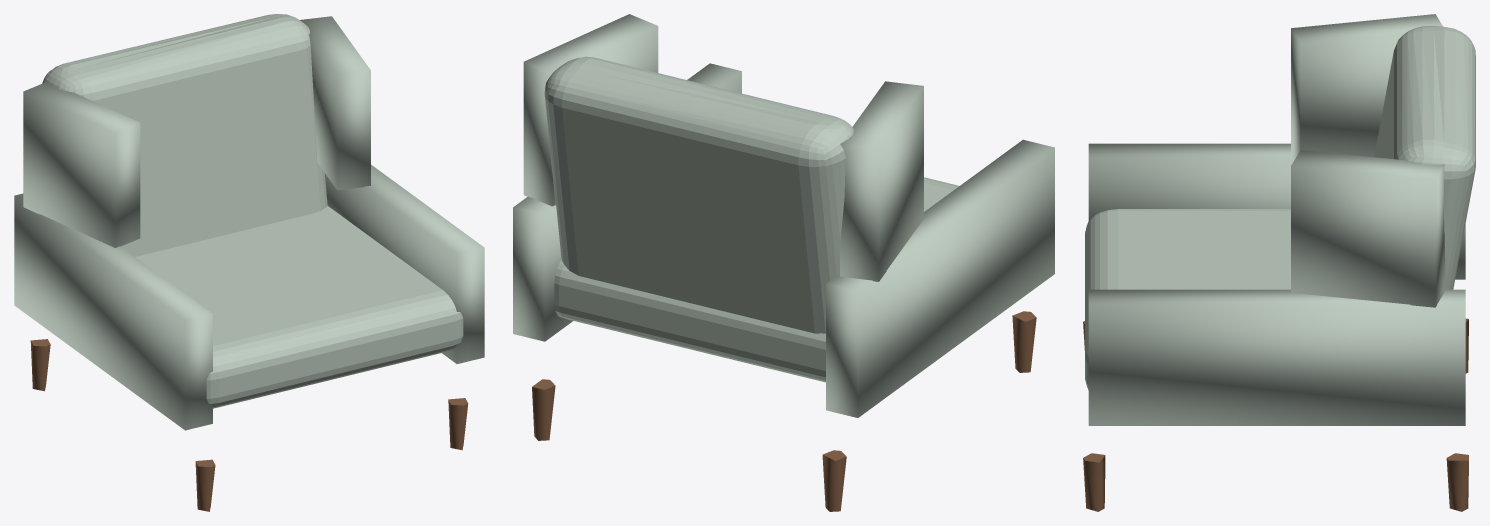
The model's file is chair-1-3.lod.glb.
3 renders of one model, left to right at view 1: azimuth 30°, elevation 25°; view 2: azimuth 150°, elevation 25°; view 3: azimuth 270°, elevation 25°, orthographic. The views are drawn at different scales.
Visible parts, largest first — view 1: tailored-cushion, part; view 2: tailored-cushion, part; view 3: tailored-cushion, part.
Boxes of the visible parts, x1=… form: tailored-cushion: x1=14, y1=14, x2=484, y2=430; part: x1=30, y1=339, x2=468, y2=511; tailored-cushion: x1=513, y1=14, x2=1054, y2=417; part: x1=532, y1=311, x2=1036, y2=511; tailored-cushion: x1=1085, y1=14, x2=1475, y2=425; part: x1=1083, y1=318, x2=1468, y2=511.
Bounding box in the file's own units: 1 × 1 × 1.
